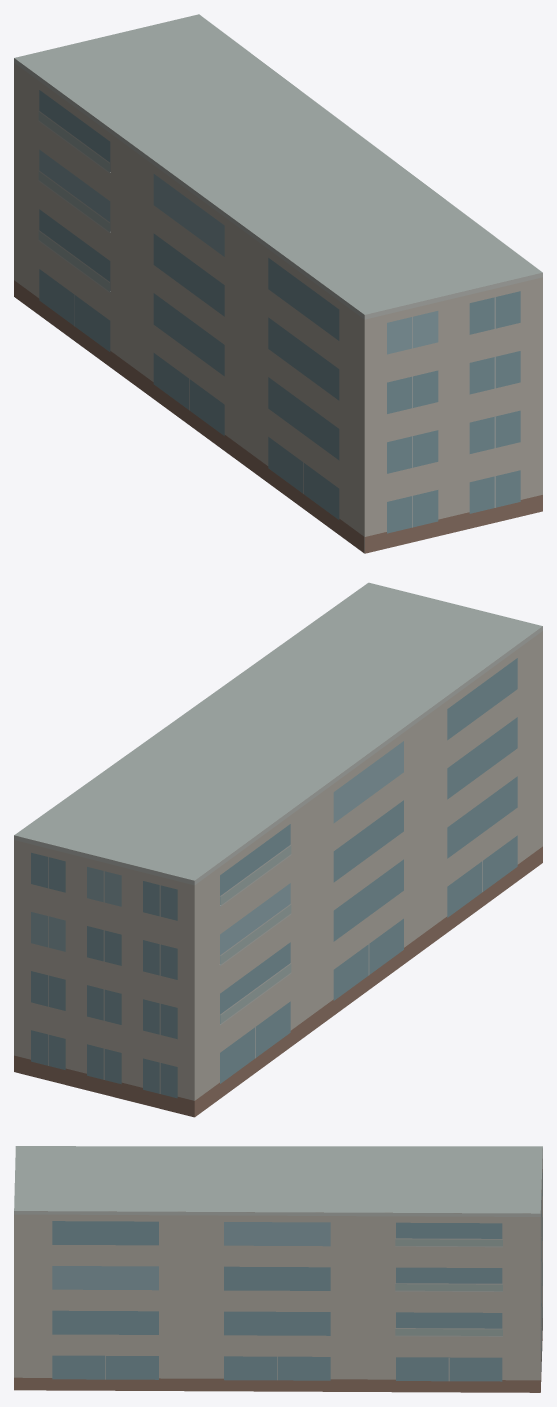
File: survey-upis-32501032.glb
The picture shows the model from 3 angles, top to bottom: view 1: azimuth 30°, elevation 25°; view 2: azimuth 150°, elevation 25°; view 3: azimuth 270°, elevation 25°; orthographic projection. The views are drawn at different scales.
Parts seen in each view (by area): view 1: survey-upis-32501032.tmp; view 2: survey-upis-32501032.tmp; view 3: survey-upis-32501032.tmp.
Part boxes in pixels (box(x1,y1,x2,y2)): survey-upis-32501032.tmp: box(14, 14, 542, 553); survey-upis-32501032.tmp: box(14, 582, 542, 1117); survey-upis-32501032.tmp: box(14, 1146, 542, 1392).
Size of the model in its own units: 10.04 by 12.4 by 33.16.
